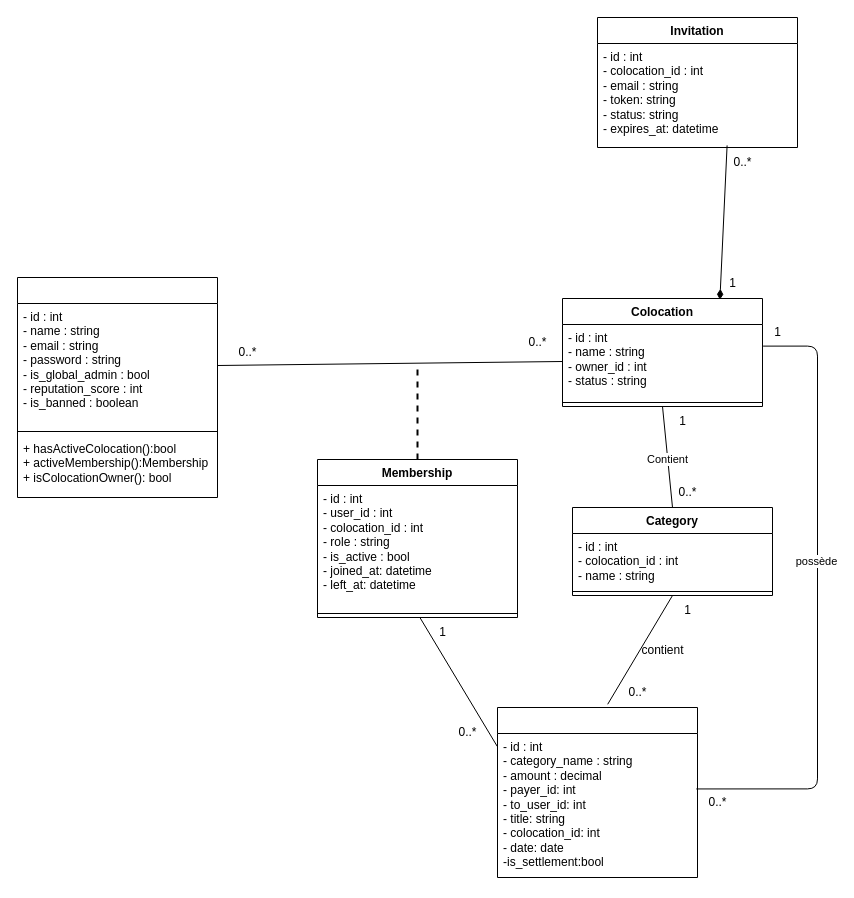
This 854x898 diagram has some shape labels left out. The box of each missing label's shape, as (x1, y1, x2, y2) in pixels:
Expense: (496, 706, 698, 878)
User: (16, 276, 218, 498)
